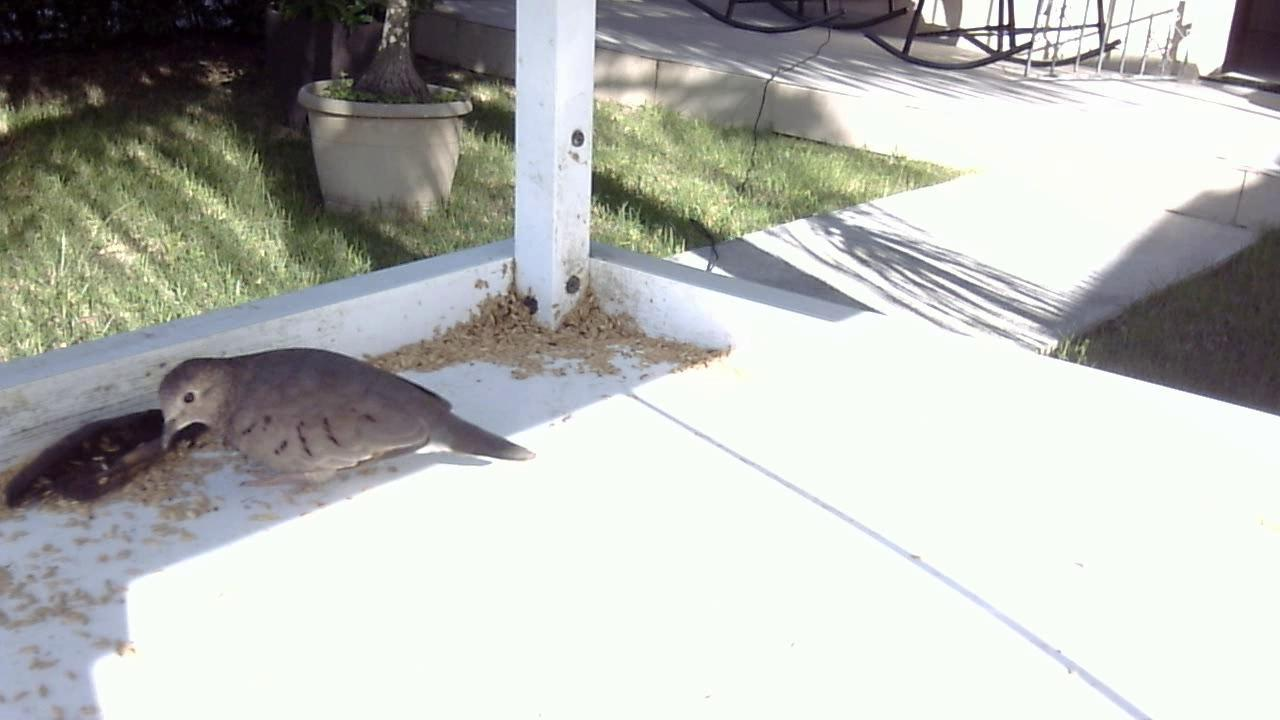rolinha: (140, 329, 540, 545)
